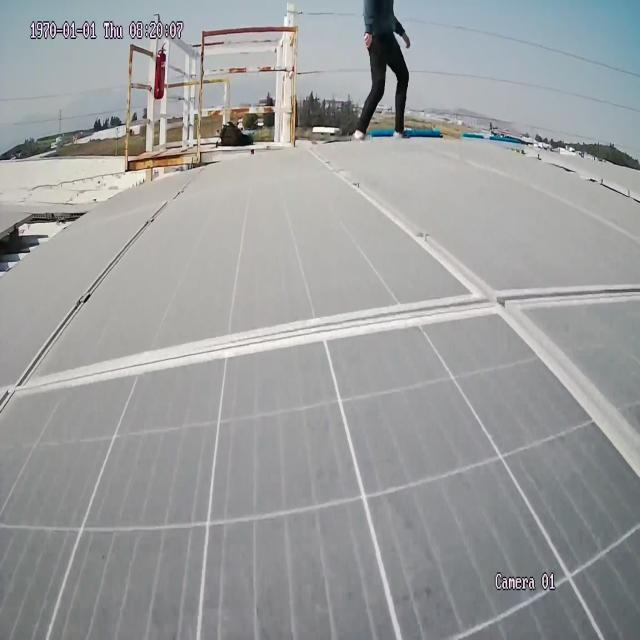interior panel: (0, 156, 640, 465)
